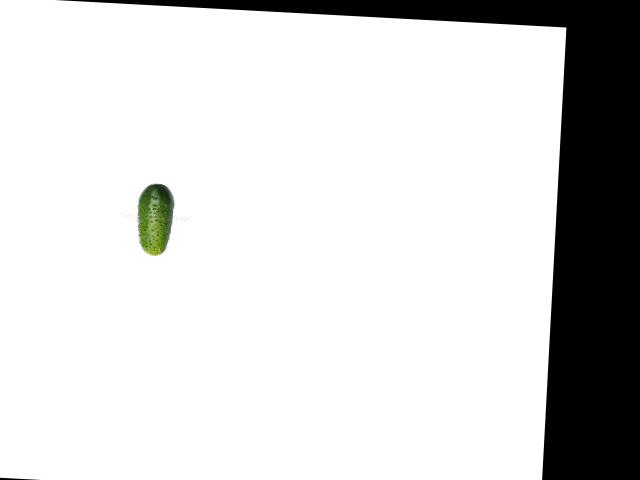cucumber: (134, 182, 175, 256)
